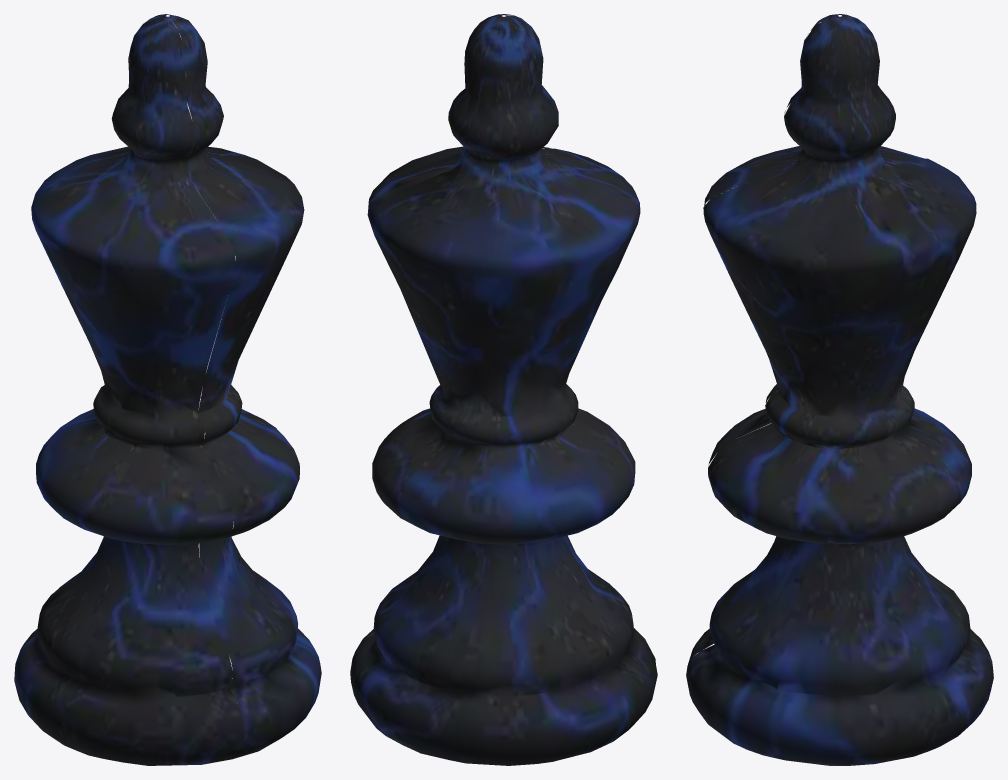
Rendered from cobalt_vein_black_king.glb.
The picture shows the model from 3 angles, left to right: view 1: azimuth 30°, elevation 25°; view 2: azimuth 150°, elevation 25°; view 3: azimuth 270°, elevation 25°; orthographic projection.
Visible parts, largest first — view 1: Cobalt Vein black king; view 2: Cobalt Vein black king; view 3: Cobalt Vein black king.
Part boxes in pixels (x1,y1,x2,y2): Cobalt Vein black king: [14, 14, 321, 765]; Cobalt Vein black king: [350, 14, 657, 765]; Cobalt Vein black king: [686, 14, 993, 765].
Size of the model in its own units: 0.04 by 0.0997 by 0.04.
1 material, 1 textured.
